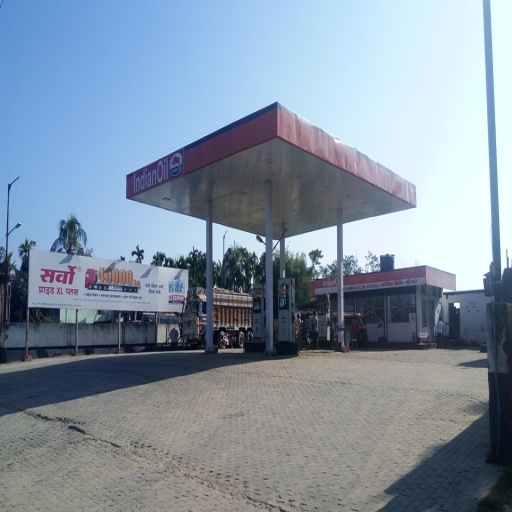roof: (127, 101, 418, 241)
